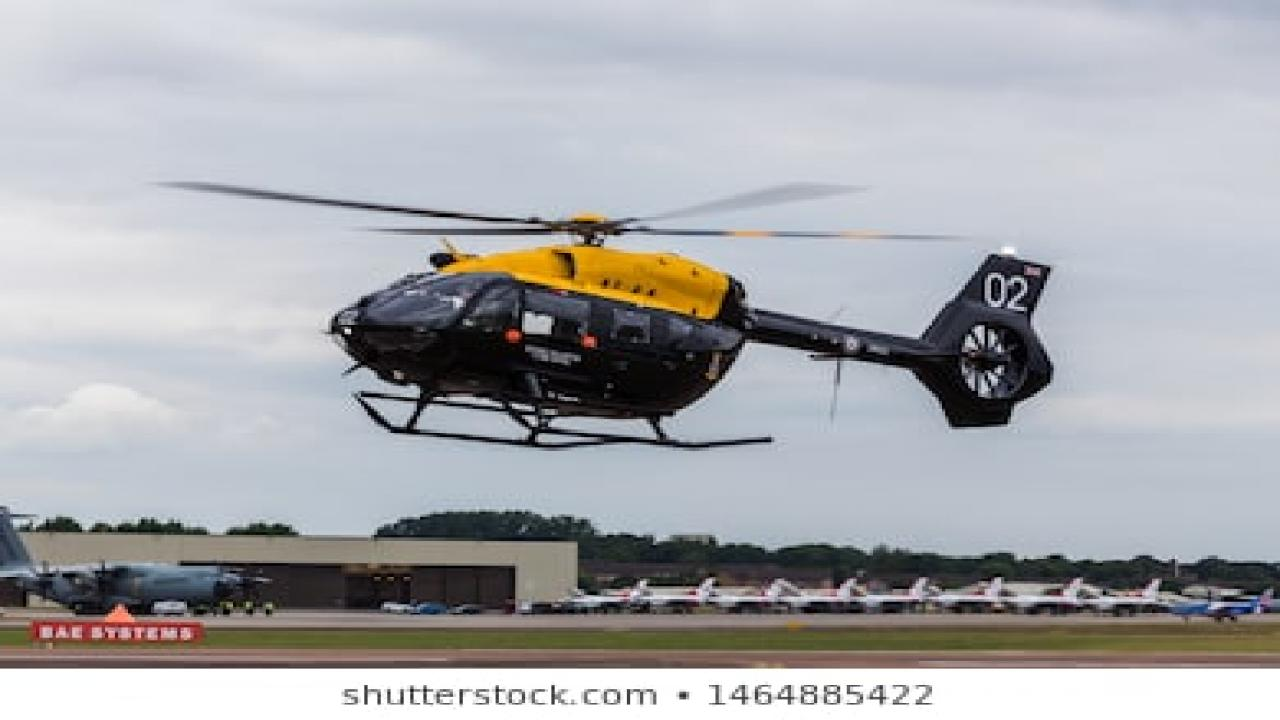Helicopter: (134, 161, 1070, 460)
